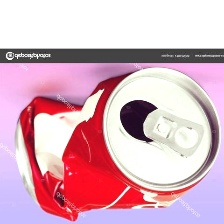can: (13, 64, 222, 223)
